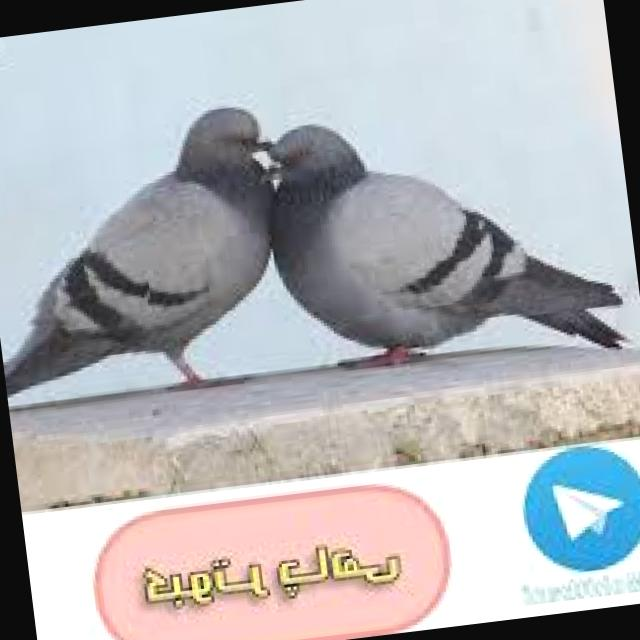bird: (256, 77, 626, 400), (0, 92, 309, 417)
